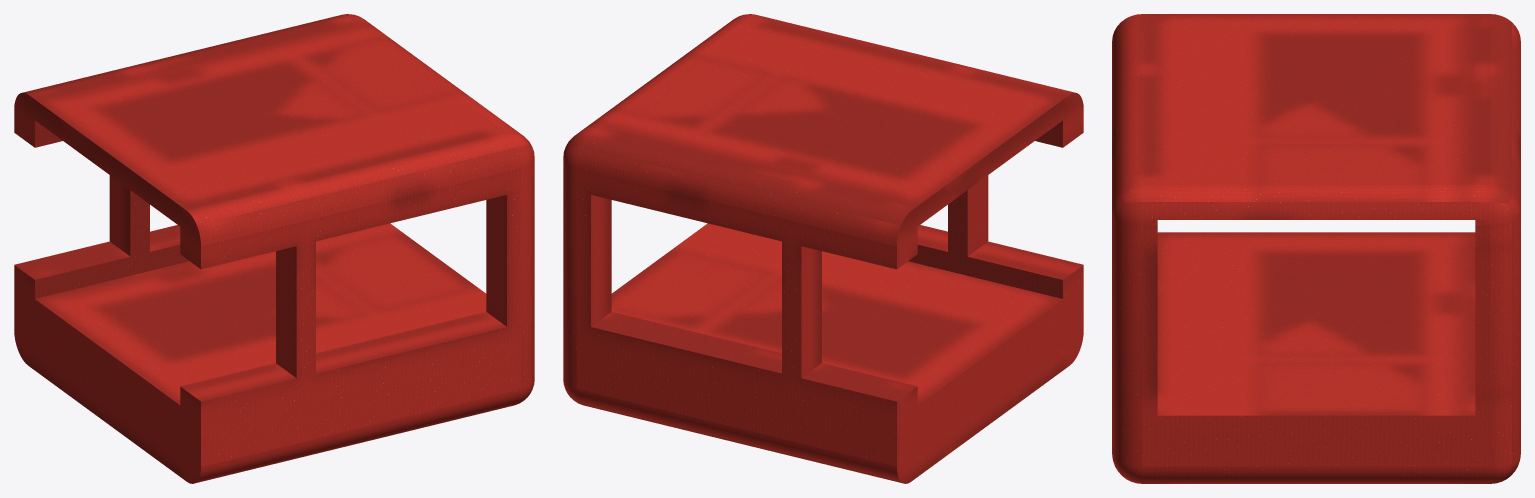
Rendered from 16-rounded-red-lunch-tin-half-2.fbx.
3 renders of one model, left to right at view 1: azimuth 30°, elevation 25°; view 2: azimuth 150°, elevation 25°; view 3: azimuth 270°, elevation 25°, orthographic. The views are drawn at different scales.
Parts seen in each view (by area): view 1: rounded-red-lunch-tin-half-2; view 2: rounded-red-lunch-tin-half-2; view 3: rounded-red-lunch-tin-half-2.
Part boxes in pixels (left/top/right/bottom): rounded-red-lunch-tin-half-2: left=14, top=14, right=534, bottom=483; rounded-red-lunch-tin-half-2: left=563, top=14, right=1083, bottom=483; rounded-red-lunch-tin-half-2: left=1112, top=14, right=1520, bottom=483.
Size of the model in its own units: 8500 by 6400 by 8000.
Materials: 1 (1 with a texture image).
